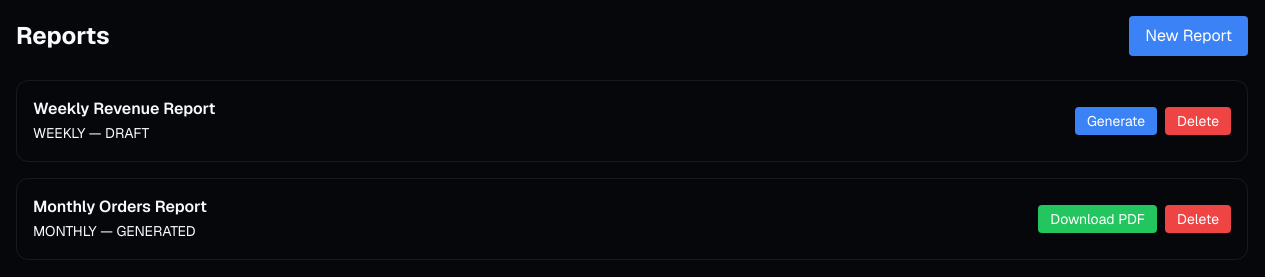
Test case: Reports page (T130) › surfaces a download failure instead of silently doing nothing
The image size is (1265, 277).
Click the button "Download PDF": (1098, 219) [1038, 205, 1157, 233]
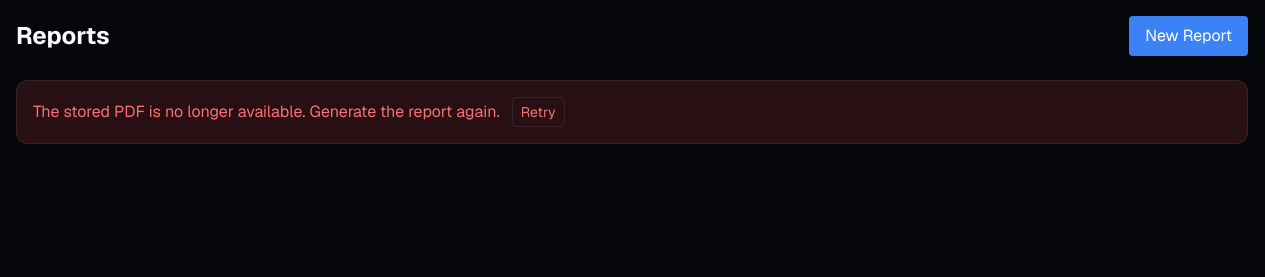
Check: the message shows "The stored PDF is no longer available", box [33, 101, 500, 122]
